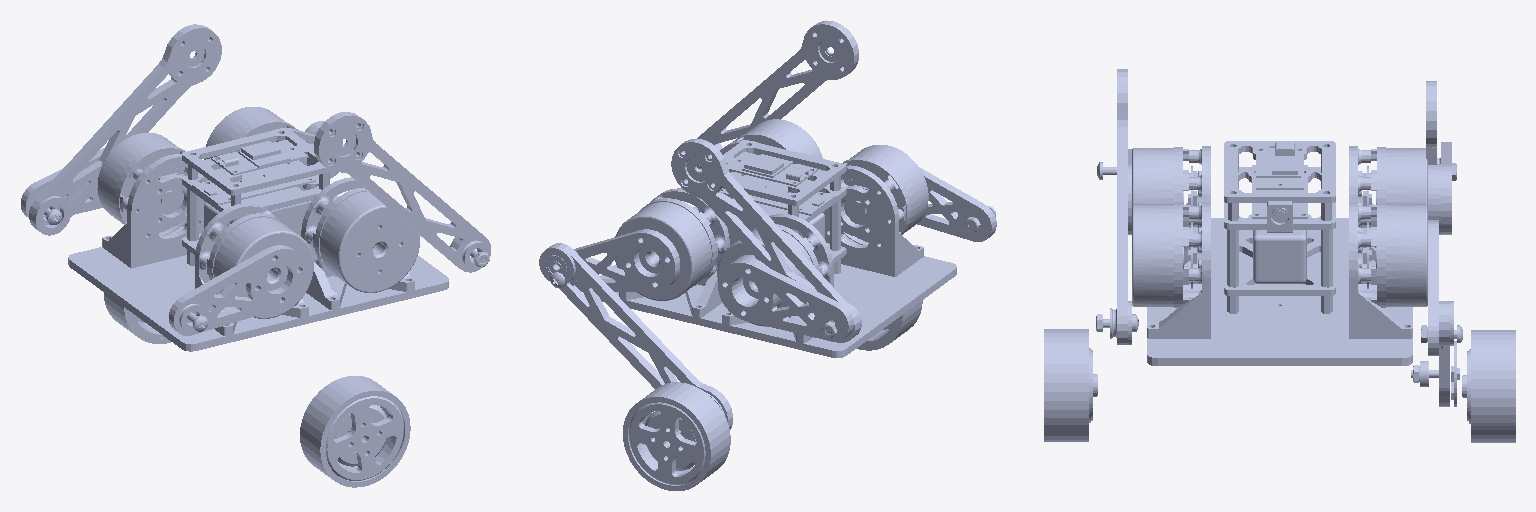
URDF robot description (foc_urdf):
<?xml version="1.0" encoding="utf-8"?>
<!-- This URDF was automatically created by SolidWorks to URDF Exporter! Originally created by [author] ([email redacted]) 
     Commit Version: 1.6.0-4-g7f85cfe  Build Version: 1.6.7995.38578
     For more information, please see http://wiki.ros.org/sw_urdf_exporter -->
<robot
  name="foc_urdf">
  <link
    name="base_link">
    <inertial>
      <origin
        xyz="4.0984E-05 2.3726E-06 0.020422"
        rpy="0 0 0" />
      <mass
        value="0.31081" />
      <inertia
        ixx="0.00013006"
        ixy="1.4002E-09"
        ixz="-5.5833E-08"
        iyy="0.00021208"
        iyz="-1.5623E-09"
        izz="0.00027627" />
    </inertial>
    <visual>
      <origin
        xyz="0 0 0"
        rpy="0 0 0" />
      <geometry>
        <mesh
          filename="package://foc_urdf/meshes/base_link.STL" />
      </geometry>
      <material
        name="">
        <color
          rgba="0.79216 0.81961 0.93333 1" />
      </material>
    </visual>
    <collision>
      <origin
        xyz="0 0 0"
        rpy="0 0 0" />
      <geometry>
        <mesh
          filename="package://foc_urdf/meshes/base_link.STL" />
      </geometry>
    </collision>
  </link>
  <link
    name="leg01_left">
    <inertial>
      <origin
        xyz="0.022488 0.0049968 0.002736"
        rpy="0 0 0" />
      <mass
        value="0.0077756" />
      <inertia
        ixx="6.3945E-07"
        ixy="-5.1343E-07"
        ixz="1.2662E-08"
        iyy="2.8361E-06"
        iyz="2.8135E-09"
        izz="3.4245E-06" />
    </inertial>
    <visual>
      <origin
        xyz="0 0 0"
        rpy="0 0 0" />
      <geometry>
        <mesh
          filename="package://foc_urdf/meshes/leg01_left.STL" />
      </geometry>
      <material
        name="">
        <color
          rgba="0.79216 0.81961 0.93333 1" />
      </material>
    </visual>
    <collision>
      <origin
        xyz="0 0 0"
        rpy="0 0 0" />
      <geometry>
        <mesh
          filename="package://foc_urdf/meshes/leg01_left.STL" />
      </geometry>
    </collision>
  </link>
  <joint
    name="joint01_left"
    type="revolute">
    <origin
      xyz="0.0299960292290543 0.0665 0.0299999999999996"
      rpy="-1.5707963267949 0 0" />
    <parent
      link="base_link" />
    <child
      link="leg01_left" />
    <axis
      xyz="0 0 -1" />
    <limit
      lower="-1.919"
      upper="1.221"
      effort="0"
      velocity="0" />
  </joint>
  <link
    name="leg12_left">
    <inertial>
      <origin
        xyz="-0.04707 0.040439 0.0035388"
        rpy="0 0 0" />
      <mass
        value="0.012283" />
      <inertia
        ixx="5.9673E-06"
        ixy="6.2672E-06"
        ixz="7.2612E-09"
        iyy="7.8687E-06"
        iyz="-5.7403E-09"
        izz="1.3777E-05" />
    </inertial>
    <visual>
      <origin
        xyz="0 0 0"
        rpy="0 0 0" />
      <geometry>
        <mesh
          filename="package://foc_urdf/meshes/leg12_left.STL" />
      </geometry>
      <material
        name="">
        <color
          rgba="0.79216 0.81961 0.93333 1" />
      </material>
    </visual>
    <collision>
      <origin
        xyz="0 0 0"
        rpy="0 0 0" />
      <geometry>
        <mesh
          filename="package://foc_urdf/meshes/leg12_left.STL" />
      </geometry>
    </collision>
  </link>
  <joint
    name="joint12_left"
    type="revolute">
    <origin
      xyz="0.0488096092049292 0.0108453699458375 0.005"
      rpy="0 0 0" />
    <parent
      link="leg01_left" />
    <child
      link="leg12_left" />
    <axis
      xyz="0 0 1" />
    <limit
      lower="0"
      upper="0"
      effort="0"
      velocity="0" />
  </joint>
  <link
    name="tire_left">
    <inertial>
      <origin
        xyz="7.036E-15 5.9952E-15 0.013352"
        rpy="0 0 0" />
      <mass
        value="0.032805" />
      <inertia
        ixx="6.3145E-06"
        ixy="7.9409E-22"
        ixz="1.752E-21"
        iyy="6.3145E-06"
        iyz="-2.3692E-21"
        izz="1.0579E-05" />
    </inertial>
    <visual>
      <origin
        xyz="0 0 0"
        rpy="0 0 0" />
      <geometry>
        <mesh
          filename="package://foc_urdf/meshes/tire_left.STL" />
      </geometry>
      <material
        name="">
        <color
          rgba="0.79216 0.81961 0.93333 1" />
      </material>
    </visual>
    <collision>
      <origin
        xyz="0 0 0"
        rpy="0 0 0" />
      <geometry>
        <mesh
          filename="package://foc_urdf/meshes/tire_left.STL" />
      </geometry>
    </collision>
  </link>
  <joint
    name="joint_tire_left"
    type="revolute">
    <origin
      xyz="-0.0796741733500656 0.0683887863686989 0.0105000000000001"
      rpy="0 0 0" />
    <parent
      link="leg12_left" />
    <child
      link="tire_left" />
    <axis
      xyz="0 0 1" />
    <limit
      lower="0"
      upper="0"
      effort="0"
      velocity="0" />
  </joint>
  <link
    name="leg04_left">
    <inertial>
      <origin
        xyz="-0.013254 0.002494 0.0067355"
        rpy="0 0 0" />
      <mass
        value="0.010434" />
      <inertia
        ixx="8.7662E-07"
        ixy="4.4066E-07"
        ixz="1.2747E-08"
        iyy="3.1356E-06"
        iyz="-2.3986E-09"
        izz="3.9628E-06" />
    </inertial>
    <visual>
      <origin
        xyz="0 0 0"
        rpy="0 0 0" />
      <geometry>
        <mesh
          filename="package://foc_urdf/meshes/leg04_left.STL" />
      </geometry>
      <material
        name="">
        <color
          rgba="0.79216 0.81961 0.93333 1" />
      </material>
    </visual>
    <collision>
      <origin
        xyz="0 0 0"
        rpy="0 0 0" />
      <geometry>
        <mesh
          filename="package://foc_urdf/meshes/leg04_left.STL" />
      </geometry>
    </collision>
  </link>
  <joint
    name="joint04_left"
    type="revolute">
    <origin
      xyz="-0.0300039707709457 0.0665 0.0299999999999996"
      rpy="-1.5707963267949 0 0" />
    <parent
      link="base_link" />
    <child
      link="leg04_left" />
    <axis
      xyz="0 0 -1" />
    <limit
      lower="0"
      upper="0"
      effort="0"
      velocity="0" />
  </joint>
  <link
    name="leg43_left">
    <inertial>
      <origin
        xyz="0.040242 0.035984 -0.0024358"
        rpy="0 0 0" />
      <mass
        value="0.011156" />
      <inertia
        ixx="6.1803E-06"
        ixy="-6.2998E-06"
        ixz="7.25E-09"
        iyy="7.5767E-06"
        iyz="6.4822E-09"
        izz="1.3691E-05" />
    </inertial>
    <visual>
      <origin
        xyz="0 0 0"
        rpy="0 0 0" />
      <geometry>
        <mesh
          filename="package://foc_urdf/meshes/leg43_left.STL" />
      </geometry>
      <material
        name="">
        <color
          rgba="0.79216 0.81961 0.93333 1" />
      </material>
    </visual>
    <collision>
      <origin
        xyz="0 0 0"
        rpy="0 0 0" />
      <geometry>
        <mesh
          filename="package://foc_urdf/meshes/leg43_left.STL" />
      </geometry>
    </collision>
  </link>
  <joint
    name="joint43_left"
    type="revolute">
    <origin
      xyz="-0.0491376538616214 0.00924613286598304 0.00500000000000019"
      rpy="0 0 0" />
    <parent
      link="leg04_left" />
    <child
      link="leg43_left" />
    <axis
      xyz="0 0 -1" />
    <limit
      lower="0.524"
      upper="2.443"
      effort="0"
      velocity="0" />
  </joint>
  <link
    name="leg01_right">
    <inertial>
      <origin
        xyz="-0.022673 0.0040767 -0.002736"
        rpy="0 0 0" />
      <mass
        value="0.0077756" />
      <inertia
        ixx="6.013E-07"
        ixy="4.2234E-07"
        ixz="1.2766E-08"
        iyy="2.8742E-06"
        iyz="-2.2955E-09"
        izz="3.4245E-06" />
    </inertial>
    <visual>
      <origin
        xyz="0 0 0"
        rpy="0 0 0" />
      <geometry>
        <mesh
          filename="package://foc_urdf/meshes/leg01_right.STL" />
      </geometry>
      <material
        name="">
        <color
          rgba="0.79216 0.81961 0.93333 1" />
      </material>
    </visual>
    <collision>
      <origin
        xyz="0 0 0"
        rpy="0 0 0" />
      <geometry>
        <mesh
          filename="package://foc_urdf/meshes/leg01_right.STL" />
      </geometry>
    </collision>
  </link>
  <joint
    name="joint01_right"
    type="revolute">
    <origin
      xyz="-0.0300039707709457 -0.0665 0.0299999999999996"
      rpy="-1.5707963267949 0 0" />
    <parent
      link="base_link" />
    <child
      link="leg01_right" />
    <axis
      xyz="0 0 1" />
    <limit
      lower="-1.919"
      upper="1.221"
      effort="0"
      velocity="0" />
  </joint>
  <link
    name="leg12_right">
    <inertial>
      <origin
        xyz="0.046186 0.041445 -0.0015388"
        rpy="0 0 0" />
      <mass
        value="0.012283" />
      <inertia
        ixx="6.2385E-06"
        ixy="-6.3024E-06"
        ixz="7.1356E-09"
        iyy="7.5975E-06"
        iyz="5.8957E-09"
        izz="1.3777E-05" />
    </inertial>
    <visual>
      <origin
        xyz="0 0 0"
        rpy="0 0 0" />
      <geometry>
        <mesh
          filename="package://foc_urdf/meshes/leg12_right.STL" />
      </geometry>
      <material
        name="">
        <color
          rgba="0.79216 0.81961 0.93333 1" />
      </material>
    </visual>
    <collision>
      <origin
        xyz="0 0 0"
        rpy="0 0 0" />
      <geometry>
        <mesh
          filename="package://foc_urdf/meshes/leg12_right.STL" />
      </geometry>
    </collision>
  </link>
  <joint
    name="joint12_right"
    type="revolute">
    <origin
      xyz="-0.0492108308095336 0.00884839708848127 -0.00700000000000012"
      rpy="0 0 0" />
    <parent
      link="leg01_right" />
    <child
      link="leg12_right" />
    <axis
      xyz="0 0 -1" />
    <limit
      lower="0"
      upper="0"
      effort="0"
      velocity="0" />
  </joint>
  <link
    name="tire_right">
    <inertial>
      <origin
        xyz="-5.3013E-15 -9.6728E-15 -0.013352"
        rpy="0 0 0" />
      <mass
        value="0.032805" />
      <inertia
        ixx="6.3145E-06"
        ixy="1.9819E-21"
        ixz="3.993E-21"
        iyy="6.3145E-06"
        iyz="-7.3106E-21"
        izz="1.0579E-05" />
    </inertial>
    <visual>
      <origin
        xyz="0 0 0"
        rpy="0 0 0" />
      <geometry>
        <mesh
          filename="package://foc_urdf/meshes/tire_right.STL" />
      </geometry>
      <material
        name="">
        <color
          rgba="0.79216 0.81961 0.93333 1" />
      </material>
    </visual>
    <collision>
      <origin
        xyz="0 0 0"
        rpy="0 0 0" />
      <geometry>
        <mesh
          filename="package://foc_urdf/meshes/tire_right.STL" />
      </geometry>
    </collision>
  </link>
  <joint
    name="joint_tire_right"
    type="revolute">
    <origin
      xyz="0.07818 0.070092 -0.0085"
      rpy="0 0 0" />
    <parent
      link="leg12_right" />
    <child
      link="tire_right" />
    <axis
      xyz="0 0 -1" />
    <limit
      lower="0"
      upper="0"
      effort="0"
      velocity="0" />
  </joint>
  <link
    name="leg04_right">
    <inertial>
      <origin
        xyz="0.013171 0.0029041 -0.0067355"
        rpy="0 0 0" />
      <mass
        value="0.010434" />
      <inertia
        ixx="9.0613E-07"
        ixy="-5.0987E-07"
        ixz="1.2667E-08"
        iyy="3.1061E-06"
        iyz="2.793E-09"
        izz="3.9628E-06" />
    </inertial>
    <visual>
      <origin
        xyz="0 0 0"
        rpy="0 0 0" />
      <geometry>
        <mesh
          filename="package://foc_urdf/meshes/leg04_right.STL" />
      </geometry>
      <material
        name="">
        <color
          rgba="0.79216 0.81961 0.93333 1" />
      </material>
    </visual>
    <collision>
      <origin
        xyz="0 0 0"
        rpy="0 0 0" />
      <geometry>
        <mesh
          filename="package://foc_urdf/meshes/leg04_right.STL" />
      </geometry>
    </collision>
  </link>
  <joint
    name="joint04_right"
    type="revolute">
    <origin
      xyz="0.029996 -0.0665 0.03"
      rpy="-1.5708 0 0" />
    <parent
      link="base_link" />
    <child
      link="leg04_right" />
    <axis
      xyz="0 0 1" />
    <limit
      lower="0"
      upper="0"
      effort="0"
      velocity="0" />
  </joint>
  <link
    name="leg43_right">
    <inertial>
      <origin
        xyz="-0.041057 0.035051 0.0054358"
        rpy="0 0 0" />
      <mass
        value="0.011156" />
      <inertia
        ixx="5.8921E-06"
        ixy="6.2611E-06"
        ixz="7.3967E-09"
        iyy="7.865E-06"
        iyz="-6.3142E-09"
        izz="1.3691E-05" />
    </inertial>
    <visual>
      <origin
        xyz="0 0 0"
        rpy="0 0 0" />
      <geometry>
        <mesh
          filename="package://foc_urdf/meshes/leg43_right.STL" />
      </geometry>
      <material
        name="">
        <color
          rgba="0.79216 0.81961 0.93333 1" />
      </material>
    </visual>
    <collision>
      <origin
        xyz="0 0 0"
        rpy="0 0 0" />
      <geometry>
        <mesh
          filename="package://foc_urdf/meshes/leg43_right.STL" />
      </geometry>
    </collision>
  </link>
  <joint
    name="joint43_right"
    type="revolute">
    <origin
      xyz="0.048827 0.010766 -0.008"
      rpy="0 0 0" />
    <parent
      link="leg04_right" />
    <child
      link="leg43_right" />
    <axis
      xyz="0 0 1" />
    <limit
      lower="0.524"
      upper="2.443"
      effort="0"
      velocity="0" />
  </joint>
  <gazebo>
    <joint name="joint23_left" type="revolute">
      <pose relative_to="leg43_left">-0.0491376538616214 0.00924613286598304 0.00500000000000019 0 0 0</pose>
      <parent>leg43_left</parent>
      <child>leg12_left</child>
      <axis>
        <xyz>0 0 1</xyz>
        <limit>
          <lower>0.698</lower>
          <upper>2.09</upper>
          <effort>20</effort>
          <velocity>30</velocity>
        </limit>
      </axis>
      <dynamics>
        <friction>0.0</friction>
        <damping>1.0</damping>
      </dynamics>
    </joint>
  </gazebo>

  <gazebo>
    <joint name="joint23_right" type="revolute">
      <pose relative_to="joint43_right">0.048827 0.010766 -0.008 0 0 0</pose>
      <parent>leg43_right</parent>
      <child>leg12_right</child>
      <axis>
        <xyz>0 0 1</xyz>
        <limit>
          <lower>-2.443</lower>
          <upper>-1.047</upper>
          <effort>20</effort>
          <velocity>30</velocity>
        </limit>
      </axis>
      <dynamics>
        <friction>0.0</friction>
        <damping>1.0</damping>
      </dynamics>
    </joint>
  </gazebo>

  <transmission name="trans_joint01_left">
    <type>transmission_interface/SimpleTransmission</type>
    <joint name="joint01_left">
      <hardwareInterface>hardware_interface/EffortJointInterface</hardwareInterface>
    </joint>
    <actuator name="motor_joint01_left">
      <hardwareInterface>hardware_interface/EffortJointInterface</hardwareInterface>
      <mechanicalReduction>1</mechanicalReduction>
    </actuator>
  </transmission>

  <transmission name="trans_joint01_right">
    <type>transmission_interface/SimpleTransmission</type>
    <joint name="joint01_right">
      <hardwareInterface>hardware_interface/EffortJointInterface</hardwareInterface>
    </joint>
    <actuator name="motor_joint01_right">
      <hardwareInterface>hardware_interface/EffortJointInterface</hardwareInterface>
      <mechanicalReduction>1</mechanicalReduction>
    </actuator>
  </transmission>

  <transmission name="trans_joint04_left">
    <type>transmission_interface/SimpleTransmission</type>
    <joint name="joint04_left">
      <hardwareInterface>hardware_interface/EffortJointInterface</hardwareInterface>
    </joint>
    <actuator name="motor_joint04_left">
      <hardwareInterface>hardware_interface/EffortJointInterface</hardwareInterface>
      <mechanicalReduction>1</mechanicalReduction>
    </actuator>
  </transmission>

  <transmission name="trans_joint04_right">
    <type>transmission_interface/SimpleTransmission</type>
    <joint name="joint04_right">
      <hardwareInterface>hardware_interface/EffortJointInterface</hardwareInterface>
    </joint>
    <actuator name="motor_joint04_right">
      <hardwareInterface>hardware_interface/EffortJointInterface</hardwareInterface>
      <mechanicalReduction>1</mechanicalReduction>
    </actuator>
  </transmission>

  <transmission name="trans_joint_tire_left">
    <type>transmission_interface/SimpleTransmission</type>
    <joint name="joint_tire_left">
      <hardwareInterface>hardware_interface/EffortJointInterface</hardwareInterface>
    </joint>
    <actuator name="motor_joint_tire_left">
      <hardwareInterface>hardware_interface/EffortJointInterface</hardwareInterface>
      <mechanicalReduction>1</mechanicalReduction>
    </actuator>
  </transmission>

  <transmission name="trans_joint_tire_right">
    <type>transmission_interface/SimpleTransmission</type>
    <joint name="joint_tire_right">
      <hardwareInterface>hardware_interface/EffortJointInterface</hardwareInterface>
    </joint>
    <actuator name="motor_joint_tire_right">
      <hardwareInterface>hardware_interface/EffortJointInterface</hardwareInterface>
      <mechanicalReduction>1</mechanicalReduction>
    </actuator>
  </transmission>

  <gazebo>
    <plugin name="gazebo_ros_control" filename="libgazebo_ros_control.so">
      <robotNamespace>/</robotNamespace>
    </plugin>
  </gazebo>

  <gazebo>
    <plugin name="imu_plugin" filename="libgazebo_ros_imu.so">
      <alwaysOn>true</alwaysOn>
      <updateRate>10.0</updateRate>
      <gaussianNoise>0.0001</gaussianNoise>
      <bodyName>base_link</bodyName>
      <frameName>base_link</frameName>
      <topicName>imu/data</topicName>
    </plugin>
  </gazebo>

  <gazebo reference="tire_left">
    <mu1>1.0</mu1>
    <mu2>1.0</mu2>
    <!-- <kp>10000000.0</kp>
    <kd>1.0</kd> -->
  </gazebo>
  <gazebo reference="tire_right">
    <mu1>1.0</mu1>
    <mu2>1.0</mu2>
    <!-- <kp>10000000.0</kp>
    <kd>1.0</kd> -->
  </gazebo>
</robot>

--- Facts derived from the render (not from the file) ---
Views: 3 orthographic renders of the robot side by side, from view 1: azimuth 30°, elevation 25°; view 2: azimuth 150°, elevation 25°; view 3: azimuth 270°, elevation 25°.
Robot: foc_urdf — 11 links, 10 joints (10 revolute); root link base_link; default pose: joints at zero except 2 at the middle of their limits (joint43_left = 1.48, joint43_right = 1.48).
Links seen in each view (by area): view 1: base_link, leg43_left, tire_right, leg43_right, leg01_right, tire_left, leg04_left; view 2: base_link, tire_left, leg43_left, leg12_left, leg04_left, leg43_right, leg01_left, leg01_right, tire_right; view 3: base_link, tire_right, tire_left, leg43_right, leg12_left, leg04_left, leg01_left, leg43_left, leg01_right.
Link boxes in pixels (x1,y1,x2,y2): base_link: [68, 107, 448, 351]; leg43_left: [29, 24, 221, 235]; tire_right: [300, 376, 410, 487]; leg43_right: [314, 112, 490, 272]; leg01_right: [169, 245, 306, 335]; tire_left: [104, 293, 170, 343]; leg04_left: [21, 148, 104, 217]; base_link: [599, 119, 956, 357]; tire_left: [623, 382, 730, 490]; leg43_left: [671, 139, 861, 342]; leg12_left: [539, 243, 732, 429]; leg04_left: [718, 255, 853, 341]; leg43_right: [697, 20, 858, 170]; leg01_left: [550, 229, 679, 291]; leg01_right: [917, 167, 996, 241]; tire_right: [857, 300, 922, 350]; base_link: [1132, 141, 1427, 365]; tire_right: [1044, 329, 1097, 441]; tire_left: [1462, 330, 1515, 442]; leg43_right: [1096, 69, 1138, 344]; leg12_left: [1411, 301, 1459, 406]; leg04_left: [1428, 142, 1451, 234]; leg01_left: [1421, 220, 1462, 355]; leg43_left: [1426, 81, 1456, 180]; leg01_right: [1097, 149, 1131, 234].
Bounding box of the posed robot: 0.1785 × 0.212 × 0.185 m (x, y, z).
Meshes: 11 distinct files referenced, 9 mesh visuals loaded (9 binary STL); not drawn: 2 (reference not matched to a file when rendering).
